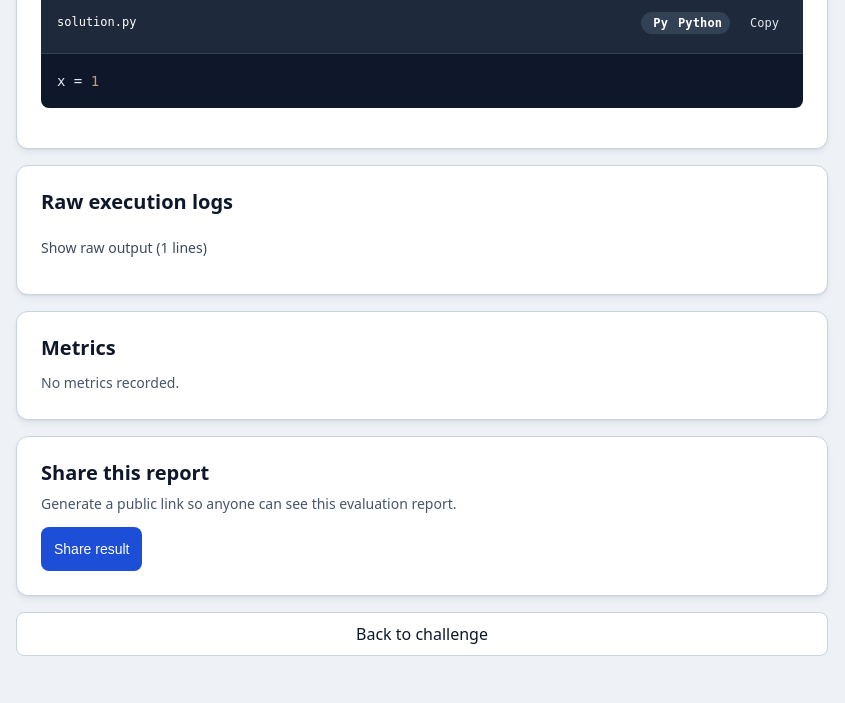
it: SubmissionDetail › surfaces sharing errors
(page scrolled)
Click the button "Share result": [92, 549] box 41,527 -> 142,571
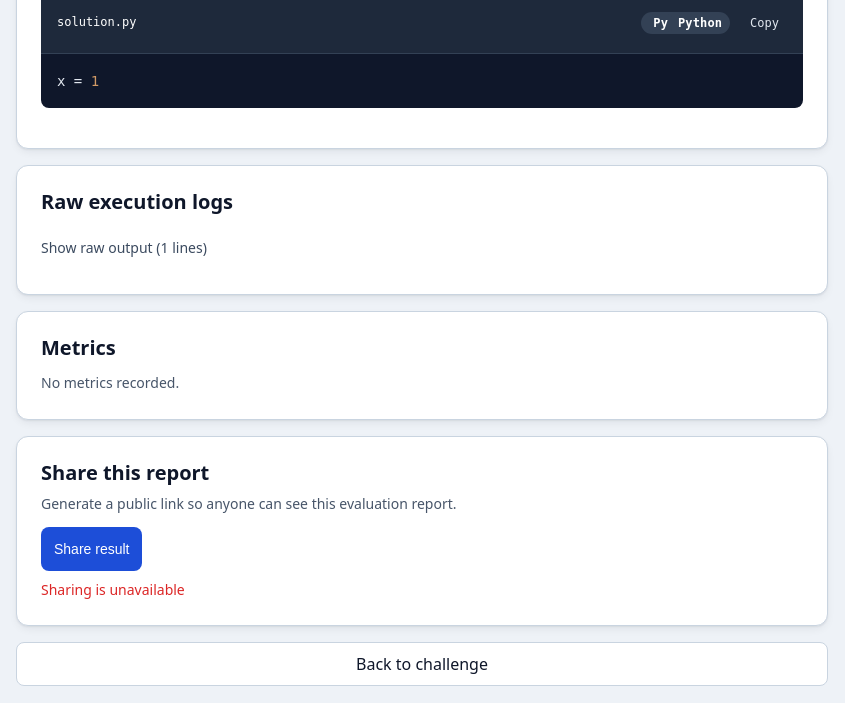
Now the message reads "Sharing is unavailable", box 41,580 -> 185,599
